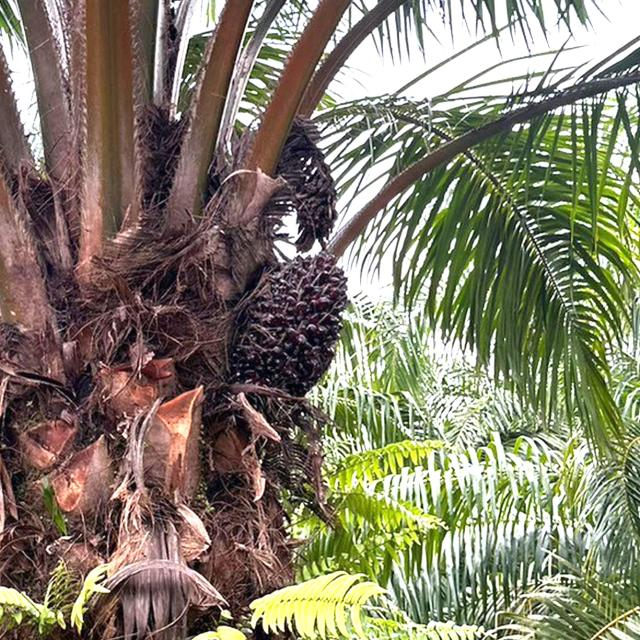ripe: (234, 248, 353, 390)
